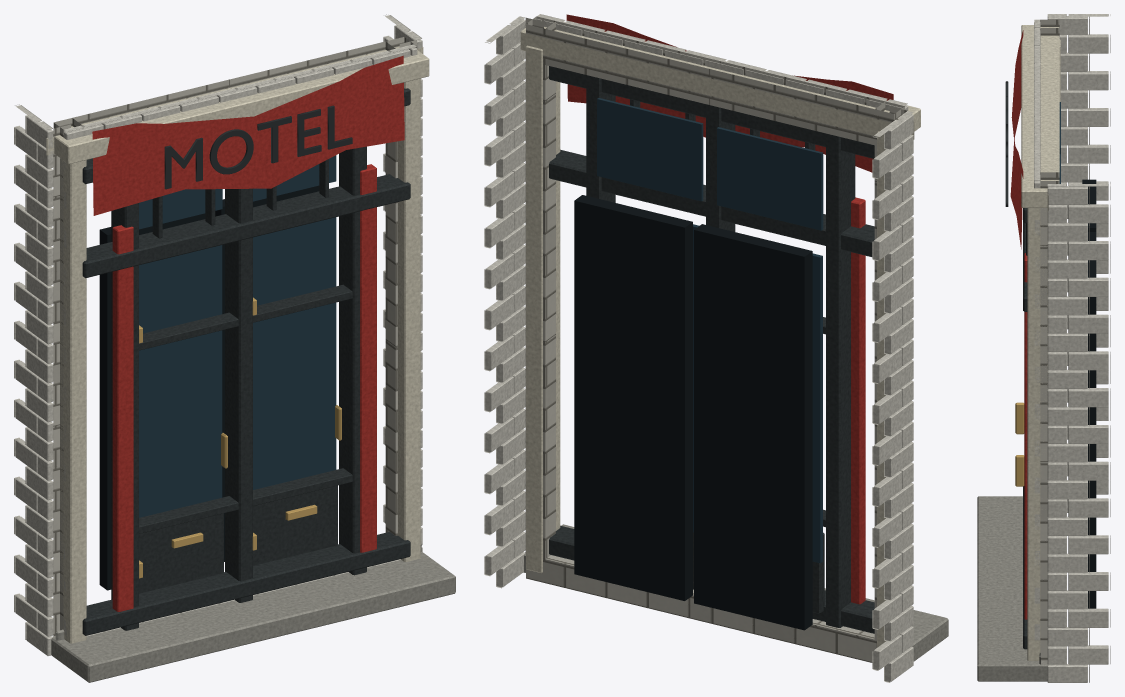
File: BUSS4_lod0.glb
The picture shows the model from 3 angles, left to right: view 1: azimuth 30°, elevation 25°; view 2: azimuth 150°, elevation 25°; view 3: azimuth 270°, elevation 25°; orthographic projection. The views are drawn at different scales.
Visible parts, largest first — view 1: ground; view 2: ground; view 3: ground.
Part boxes in pixels (x1,y1,x2,y2): ground: [14, 14, 455, 682]; ground: [484, 14, 948, 682]; ground: [977, 14, 1110, 682].
Bounding box in the file's own units: 3.44 × 4.6 × 1.12.
11 materials, 8 textured.
